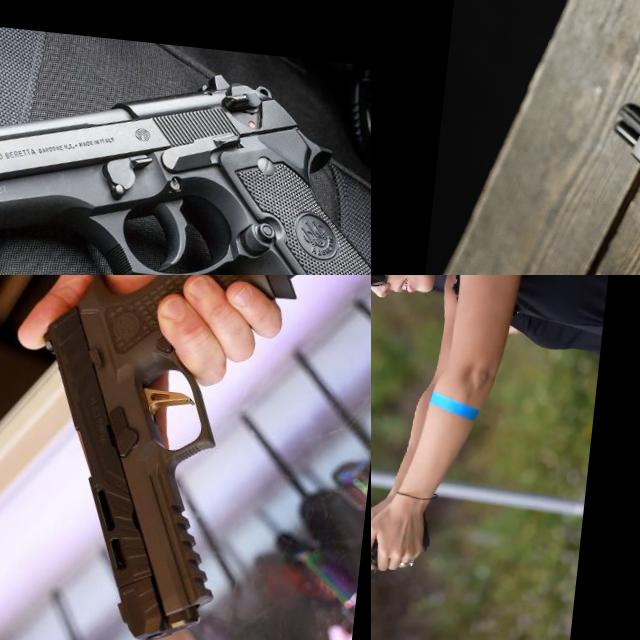handgun: (7, 275, 329, 640), (0, 25, 371, 275), (595, 94, 640, 275), (371, 497, 404, 640)
